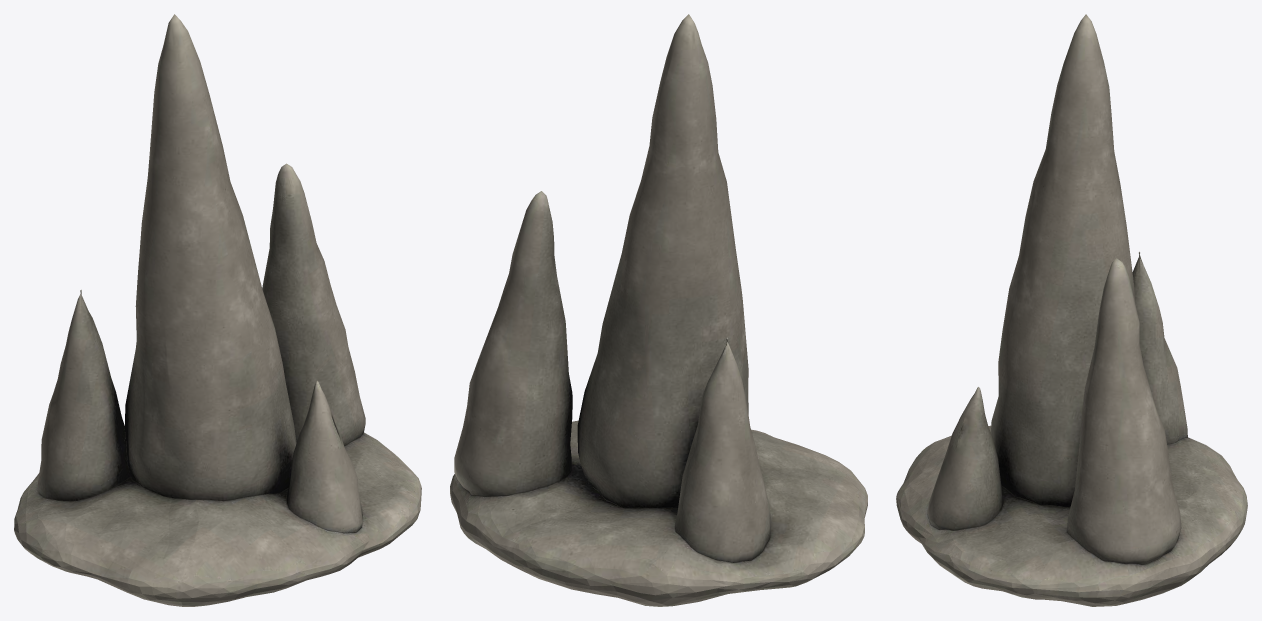
Rendered from dg_estalagmites.glb.
3 renders of one model, left to right at view 1: azimuth 30°, elevation 25°; view 2: azimuth 150°, elevation 25°; view 3: azimuth 270°, elevation 25°, orthographic. The views are drawn at different scales.
Visible parts, largest first — view 1: dg_estalagmites_tronco; view 2: dg_estalagmites_tronco; view 3: dg_estalagmites_tronco.
Part boxes in pixels (x1,y1,x2,y2): dg_estalagmites_tronco: [14, 14, 421, 606]; dg_estalagmites_tronco: [450, 14, 867, 606]; dg_estalagmites_tronco: [896, 14, 1247, 606].
Size of the model in its own units: 1.38 by 1.93 by 1.2.
Materials: 1 (1 with a texture image).
